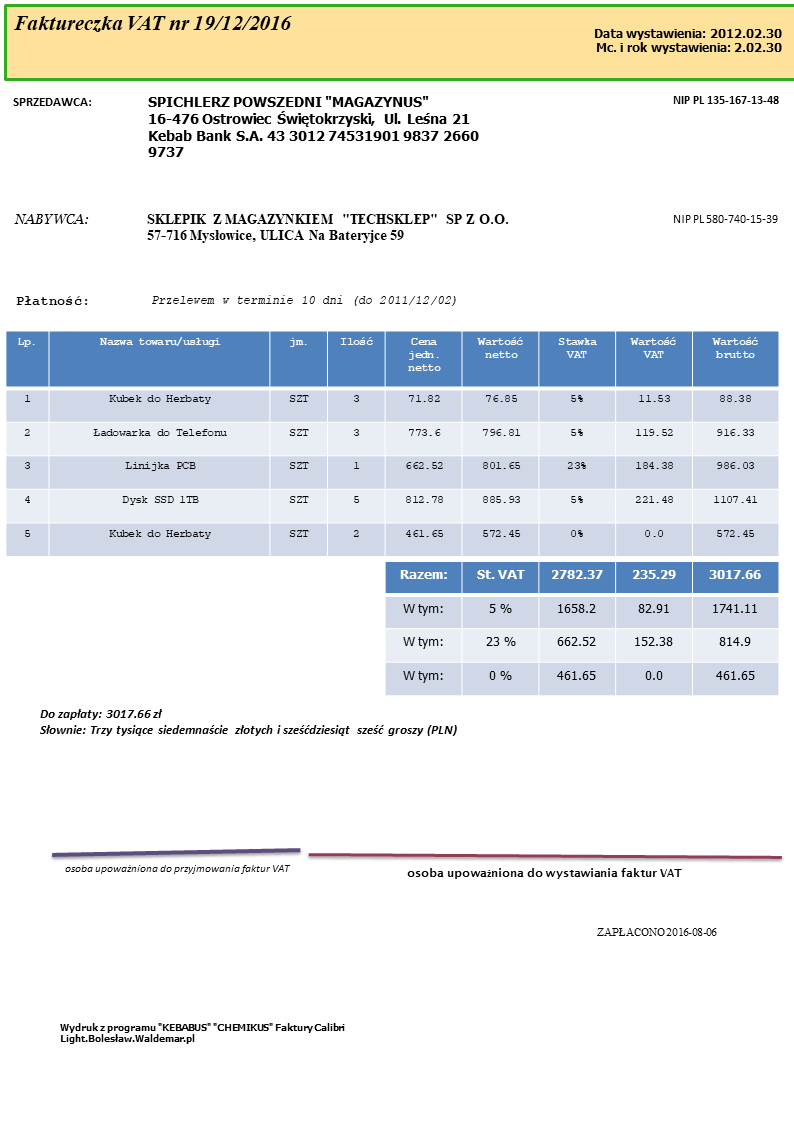Table: (4, 328, 781, 559), (384, 561, 780, 697)
TextBox: (145, 92, 482, 160), (37, 705, 459, 740), (145, 210, 509, 245), (58, 1019, 348, 1045), (12, 11, 294, 36), (149, 290, 458, 310), (592, 24, 784, 55), (404, 864, 682, 882), (62, 861, 292, 878), (593, 923, 719, 940), (671, 211, 780, 228), (671, 91, 783, 107), (11, 208, 91, 228), (11, 93, 92, 110), (14, 292, 92, 308)
